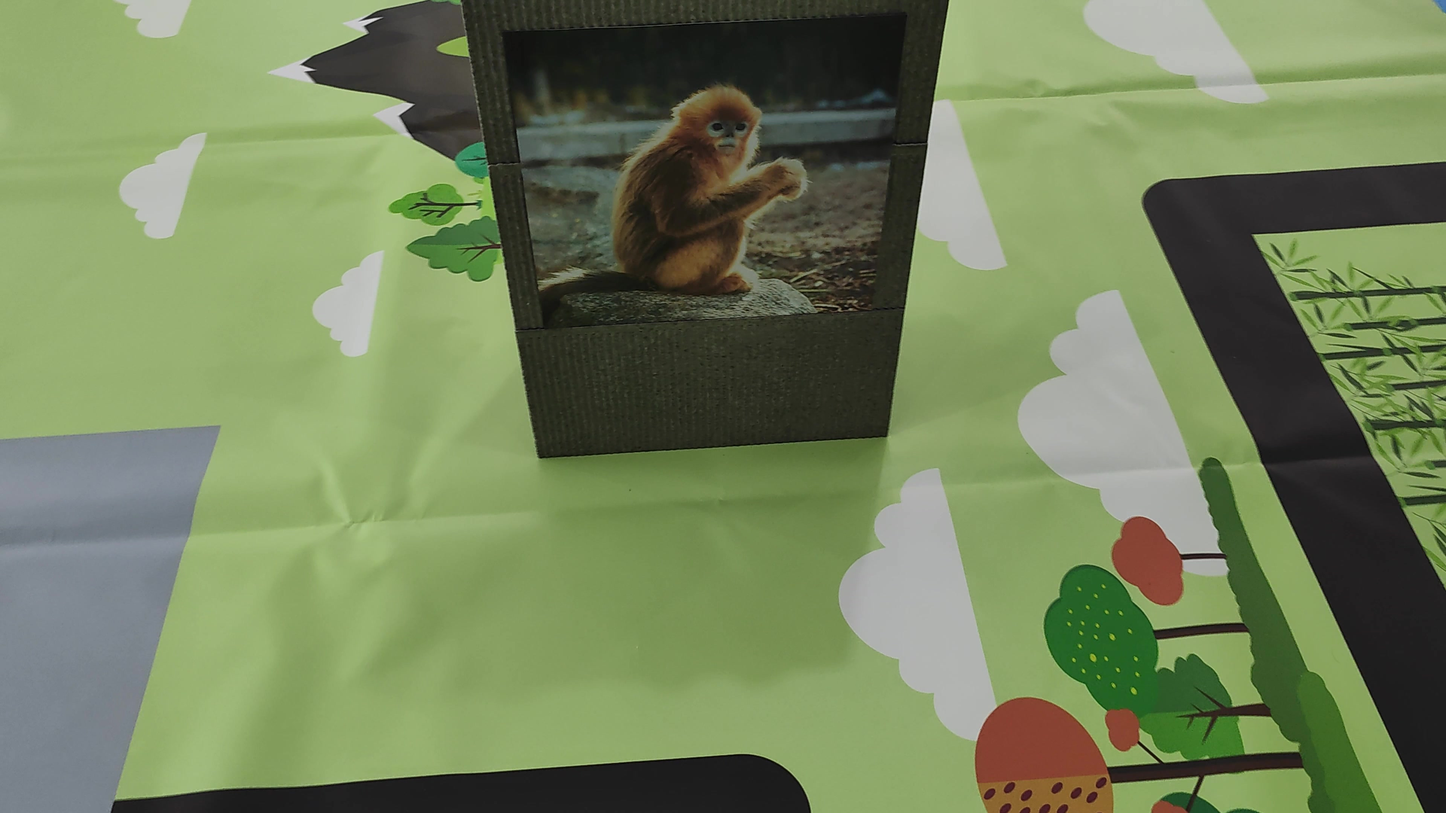monkey: (587, 45, 859, 305)
